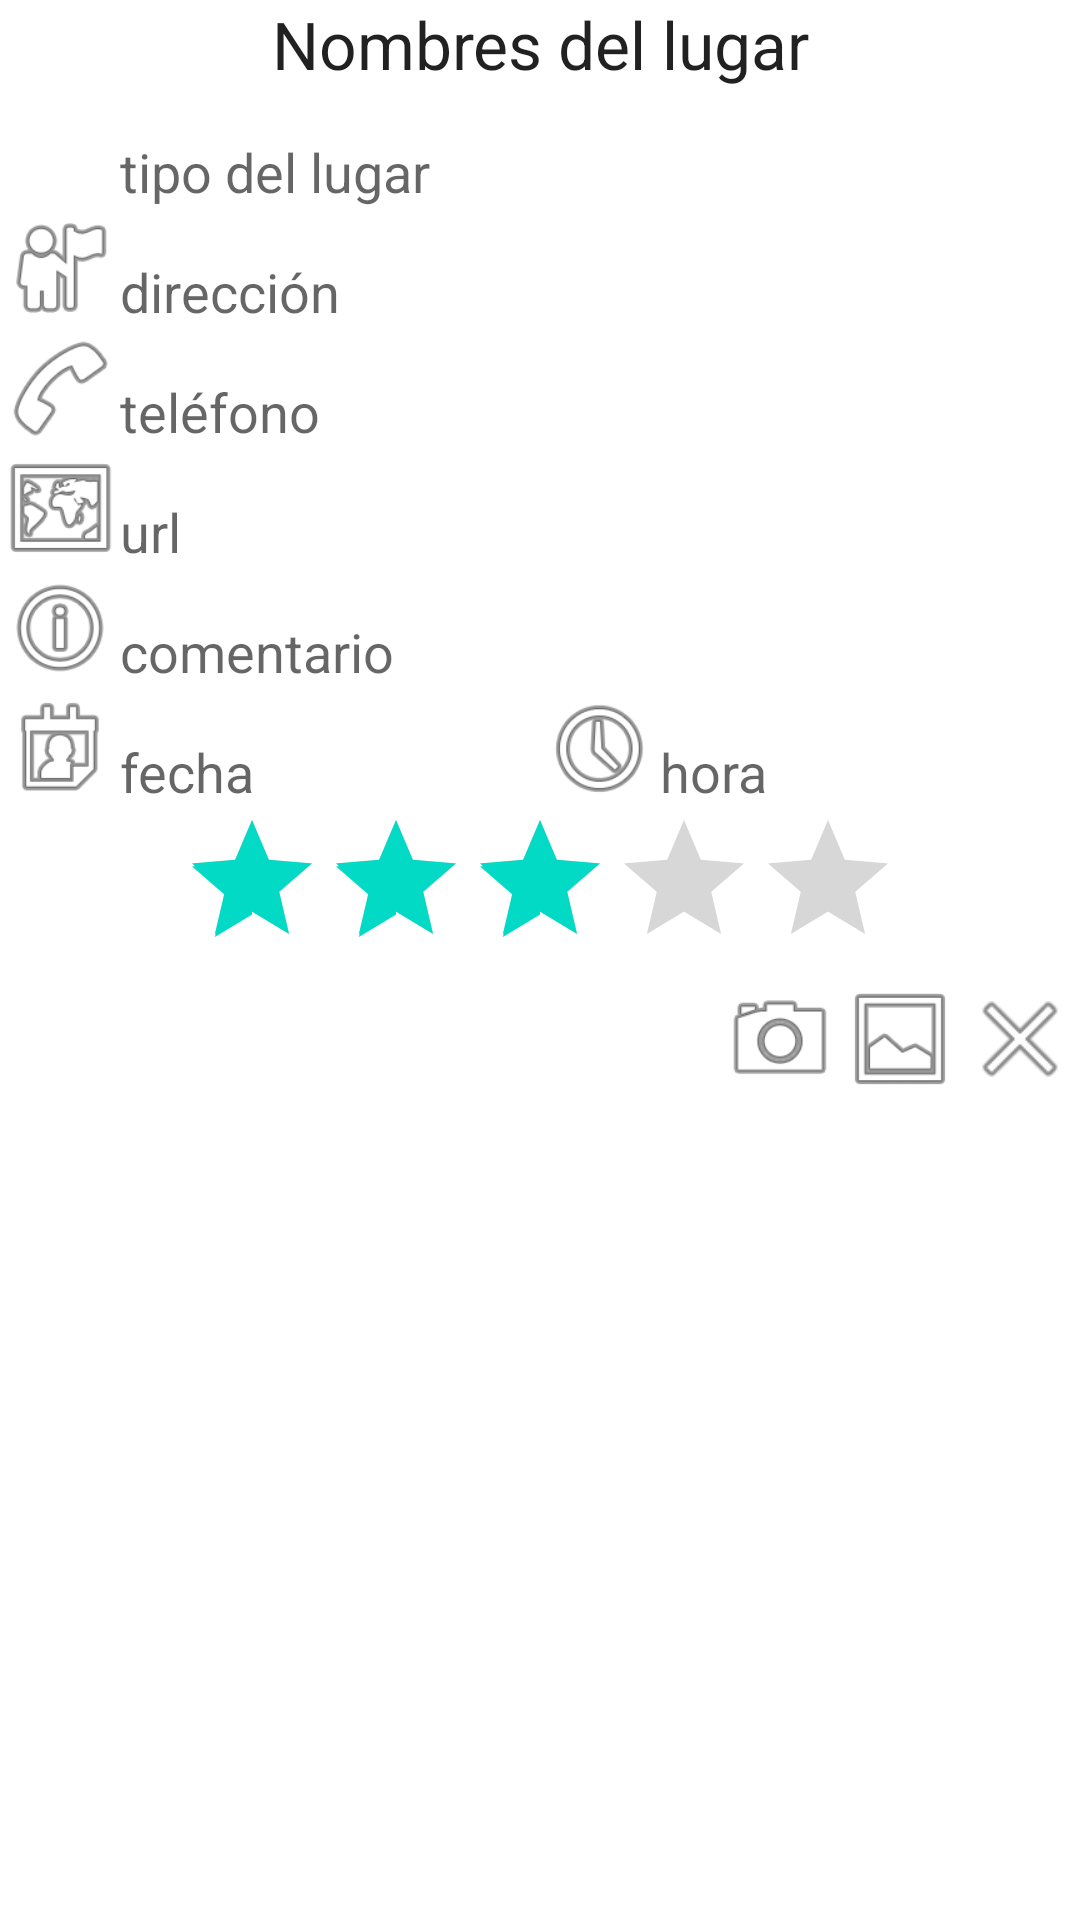

Screen size 1080×1920. Icon name, then its center in pixels as [x,y]:
Eliminar foto: [1020,1039]
